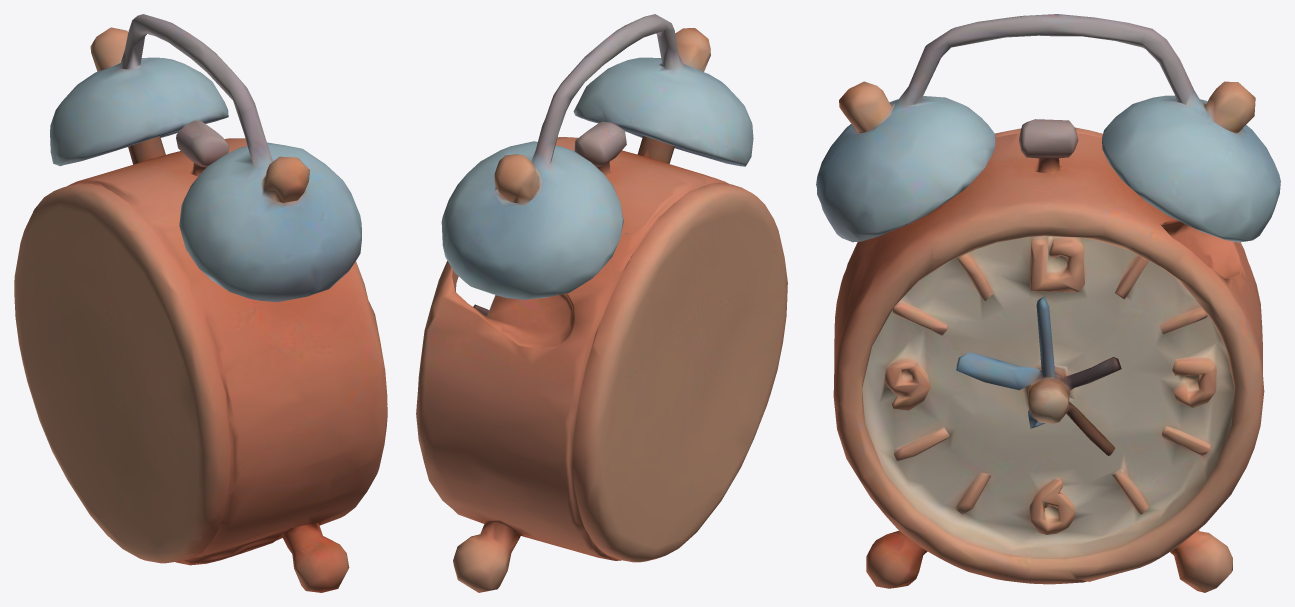
Rendered from clock.glb.
3 views of the same model, side by side, from view 1: azimuth 30°, elevation 25°; view 2: azimuth 150°, elevation 25°; view 3: azimuth 270°, elevation 25° (orthographic). The views are drawn at different scales.
Parts seen in each view (by area): view 1: tripo_node_e2a5a915-dad8-4805-9d4f-7d99fec2aeac; view 2: tripo_node_e2a5a915-dad8-4805-9d4f-7d99fec2aeac; view 3: tripo_node_e2a5a915-dad8-4805-9d4f-7d99fec2aeac.
Boxes of the visible parts, left/top/right/bottom form: tripo_node_e2a5a915-dad8-4805-9d4f-7d99fec2aeac: left=14, top=14, right=387, bottom=592; tripo_node_e2a5a915-dad8-4805-9d4f-7d99fec2aeac: left=416, top=14, right=787, bottom=592; tripo_node_e2a5a915-dad8-4805-9d4f-7d99fec2aeac: left=816, top=14, right=1280, bottom=592.
Bounding box in the file's own units: 0.4168 × 1 × 0.7771.
Materials: 1 (1 with a texture image).
